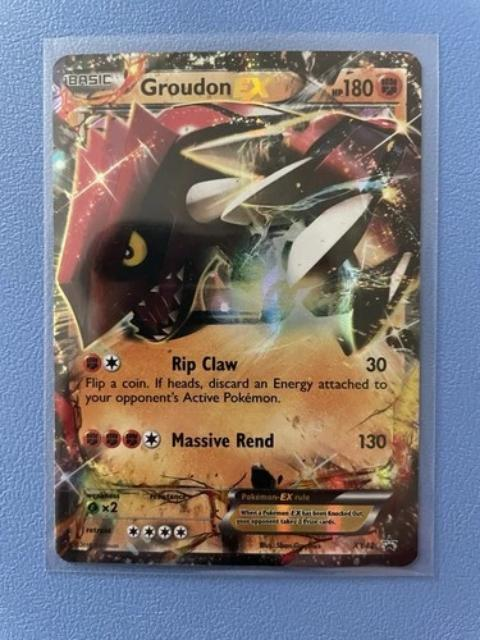Card: (48, 48, 425, 571)
Name: (134, 71, 284, 104)
